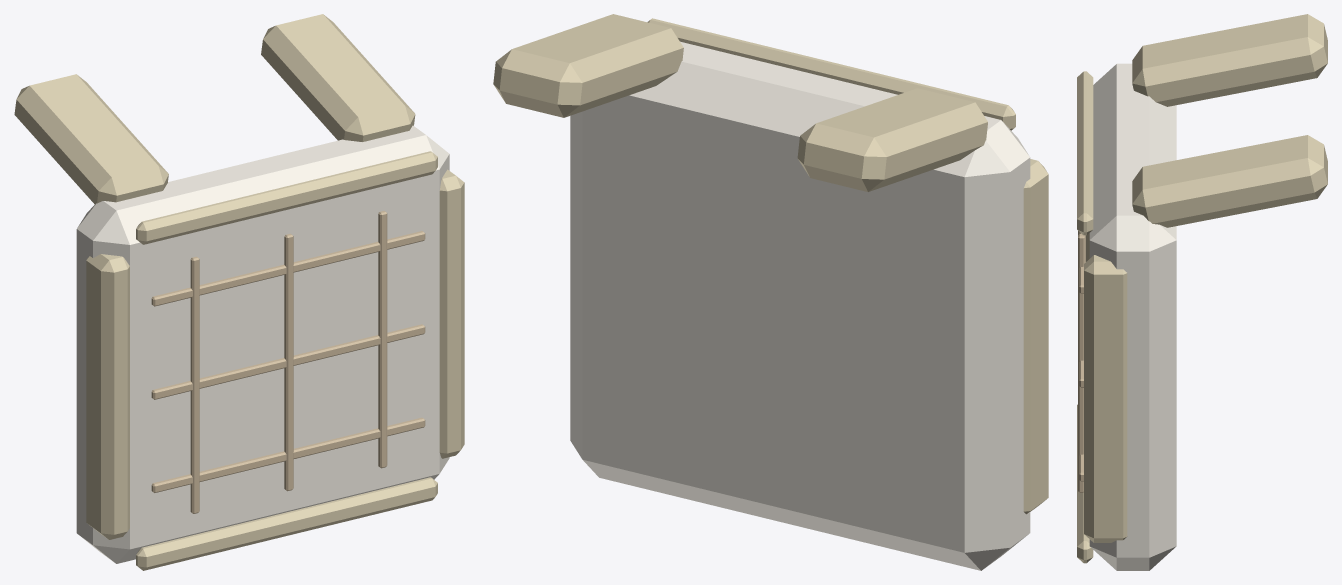
Rendered from CottonChestArmor.glb.
The picture shows the model from 3 angles, left to right: view 1: azimuth 30°, elevation 25°; view 2: azimuth 150°, elevation 25°; view 3: azimuth 270°, elevation 25°; orthographic projection. The views are drawn at different scales.
Parts seen in each view (by area): view 1: ChestShell, ChestSideWrap_L, ChestShoulderAnchor_L, ChestShoulderAnchor_R, ChestTopRim, ChestBottomRim, ChestSideWrap_R, CottonQuiltHorizontal_0.93, CottonQuiltHorizontal_1.31, CottonQuiltHorizontal_1.12, CottonQuiltVertical_0.00, CottonQuiltVertical_0.20 (+1 smaller); view 2: ChestShell, ChestShoulderAnchor_L, ChestShoulderAnchor_R, ChestSideWrap_L, ChestTopRim; view 3: ChestShell, ChestShoulderAnchor_R, ChestShoulderAnchor_L, ChestSideWrap_R, ChestTopRim, CottonQuiltVertical_0.20, ChestBottomRim.
Part boxes in pixels (bbox=[...]): ChestShell: bbox=[76, 125, 449, 563]; ChestSideWrap_L: bbox=[86, 254, 129, 539]; ChestShoulderAnchor_L: bbox=[14, 74, 168, 204]; ChestShoulderAnchor_R: bbox=[261, 14, 415, 141]; ChestTopRim: bbox=[136, 151, 437, 244]; ChestBottomRim: bbox=[136, 477, 437, 570]; ChestSideWrap_R: bbox=[439, 169, 464, 458]; CottonQuiltHorizontal_0.93: bbox=[151, 417, 425, 492]; CottonQuiltHorizontal_1.31: bbox=[151, 231, 425, 306]; CottonQuiltHorizontal_1.12: bbox=[151, 324, 425, 399]; CottonQuiltVertical_0.00: bbox=[284, 233, 293, 491]; CottonQuiltVertical_0.20: bbox=[378, 211, 387, 468]; ChestShell: bbox=[570, 41, 1030, 570]; ChestShoulderAnchor_L: bbox=[797, 88, 987, 191]; ChestShoulderAnchor_R: bbox=[493, 14, 683, 117]; ChestSideWrap_L: bbox=[1023, 159, 1048, 514]; ChestTopRim: bbox=[647, 18, 1015, 130]; ChestShell: bbox=[1089, 63, 1176, 570]; ChestShoulderAnchor_R: bbox=[1132, 135, 1327, 227]; ChestShoulderAnchor_L: bbox=[1132, 14, 1327, 106]; ChestSideWrap_R: bbox=[1084, 255, 1127, 542]; ChestTopRim: bbox=[1077, 71, 1093, 235]; CottonQuiltVertical_0.20: bbox=[1078, 234, 1084, 492]; ChestBottomRim: bbox=[1077, 404, 1093, 563].
Size of the model in its own units: 0.775 by 0.8288 by 0.4607.
